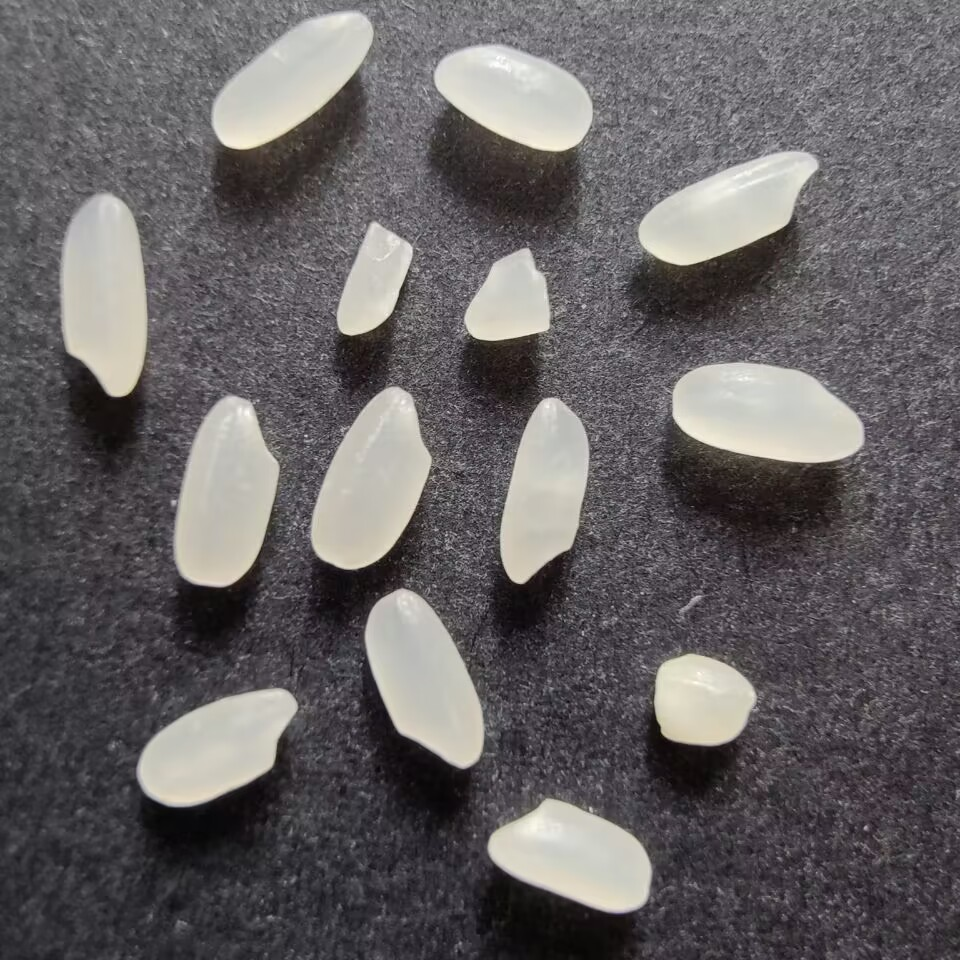broken: (650, 648, 763, 753), (328, 217, 418, 340), (455, 241, 559, 344)
rice: (302, 383, 436, 573), (357, 585, 488, 779), (208, 5, 376, 152), (170, 388, 286, 589), (132, 684, 303, 813), (665, 360, 870, 466), (53, 186, 152, 404), (638, 149, 822, 266), (480, 798, 657, 915), (496, 391, 595, 591), (429, 41, 597, 157)
